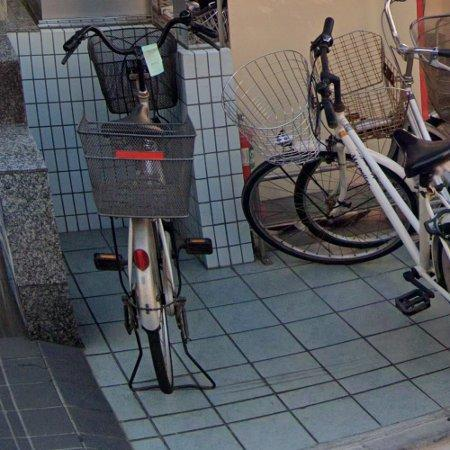bicycles: (225, 20, 450, 315), (62, 14, 218, 395), (330, 0, 450, 315), (295, 153, 402, 255)
